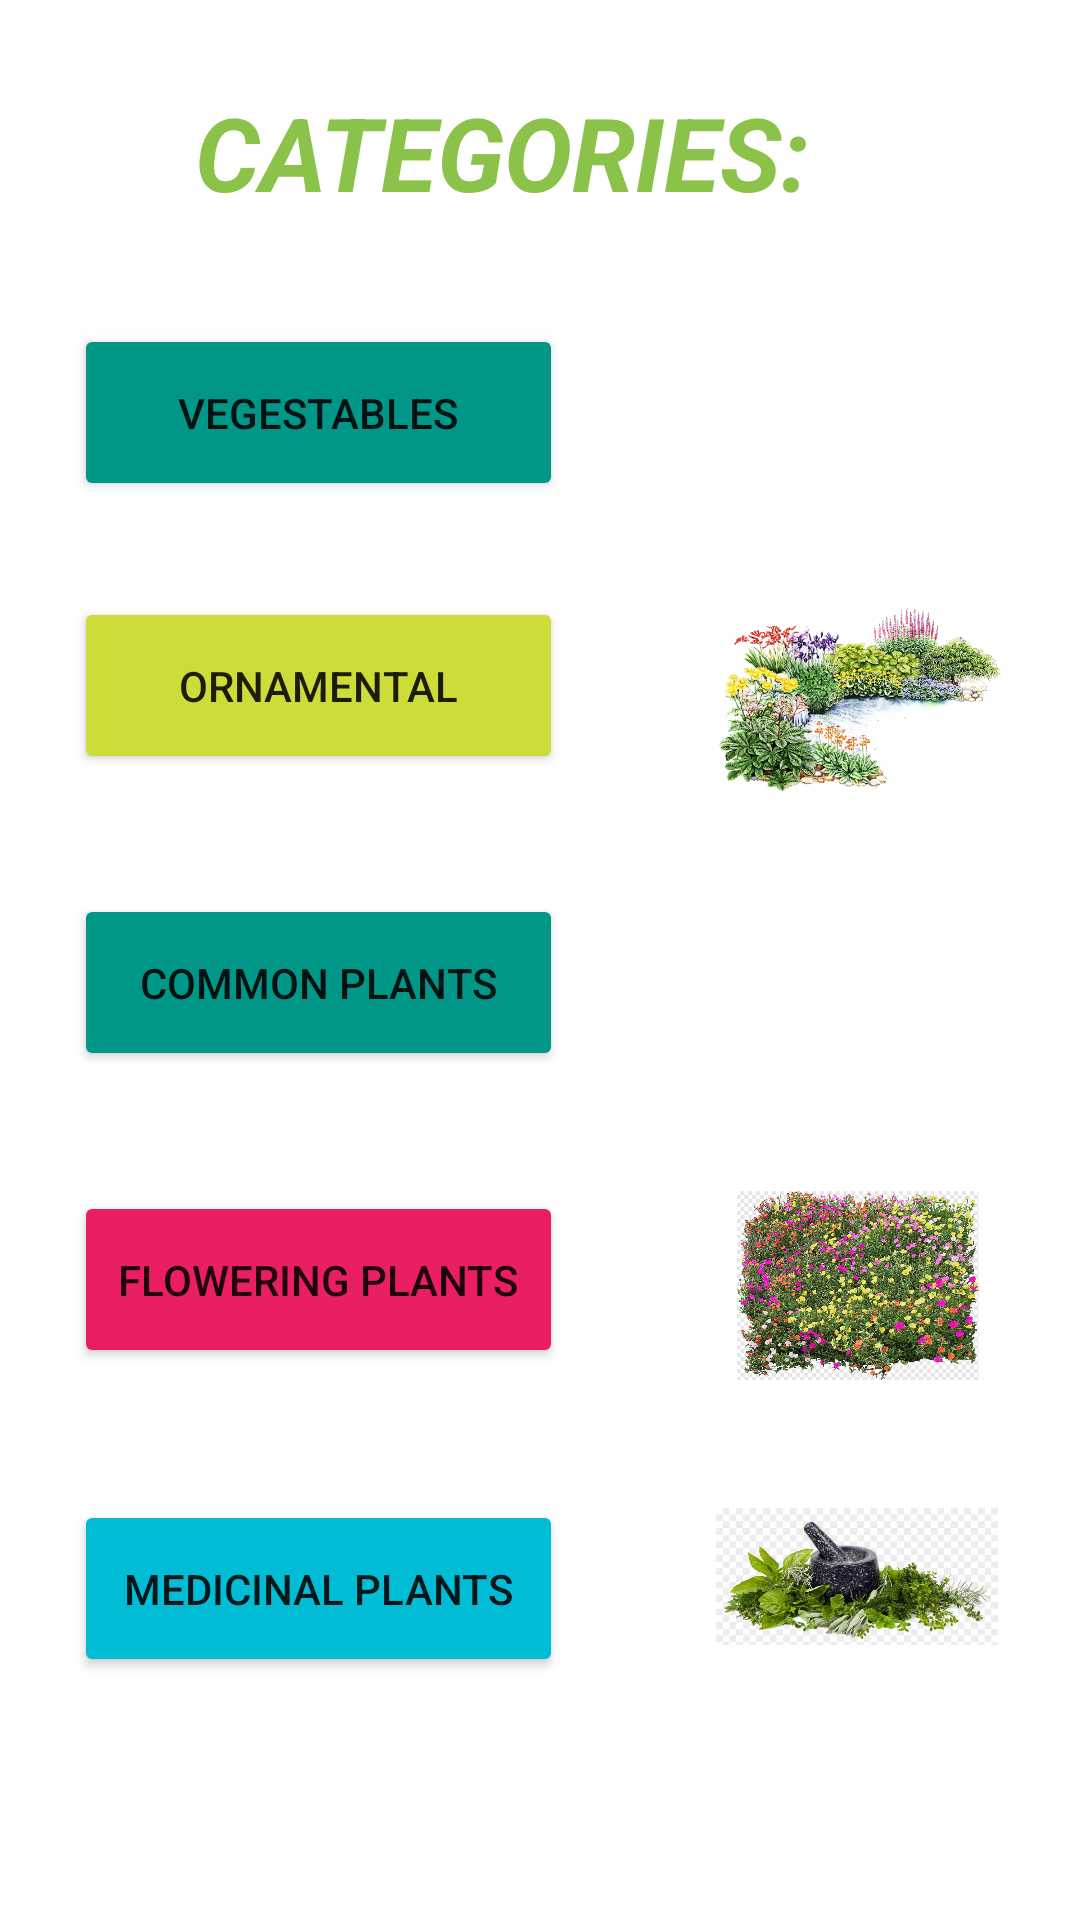

Where to tap for icons on this 1080 × 1920 app screen, as point (x, y):
flo: point (858, 1285)
med: point (857, 1580)
orna: point (860, 700)
